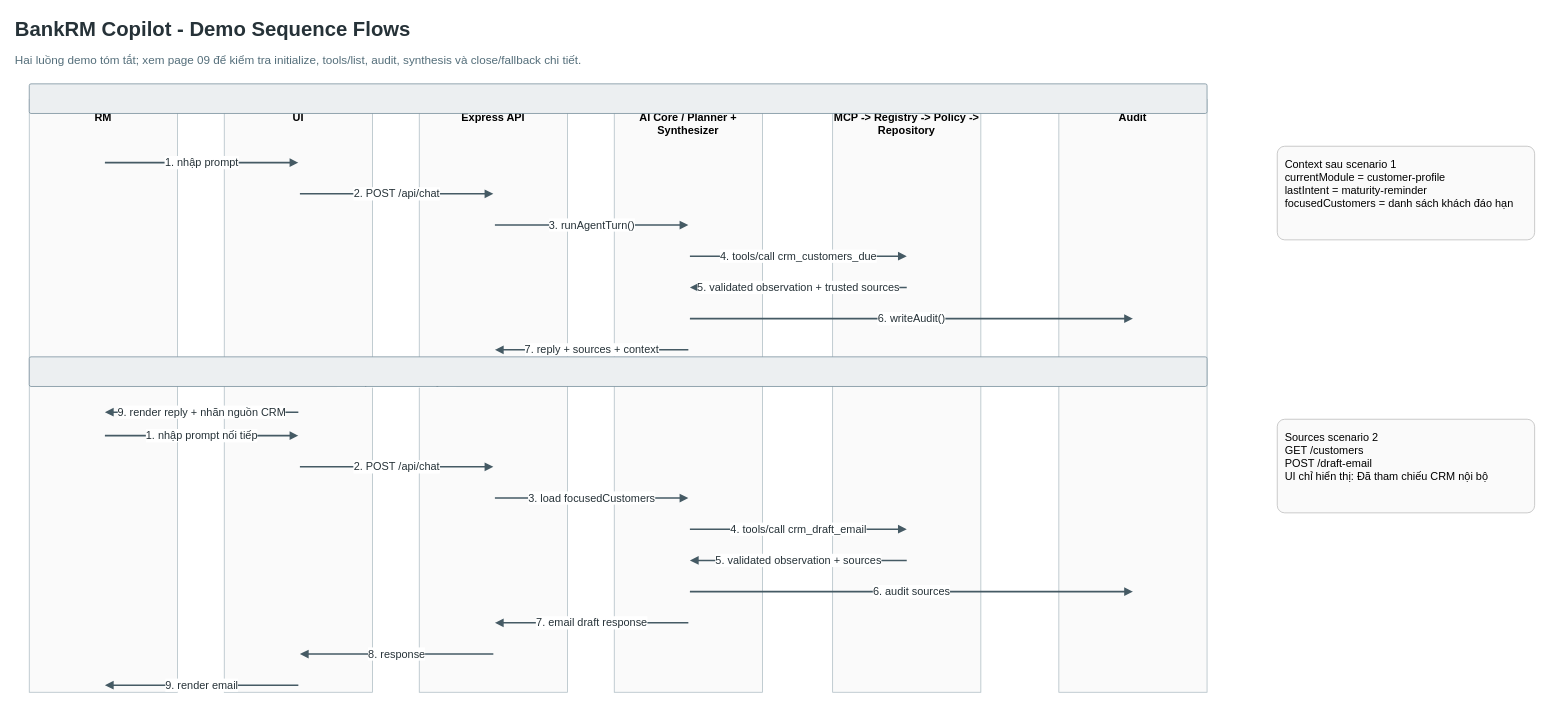
Some shapes in this 1548 by 706 pixel diagram are drawn without their labels. Here are the shapes that lost their labels. From the top down, the centre of each, then its label:
At [617,98]: "Scenario 1 - RM hỏi: Nhắc tôi khách hàng có tiết kiệm đến hạn trong tuần này".
At [617,371]: "Scenario 2 - RM hỏi nối tiếp: Soạn email cho nhóm này".
